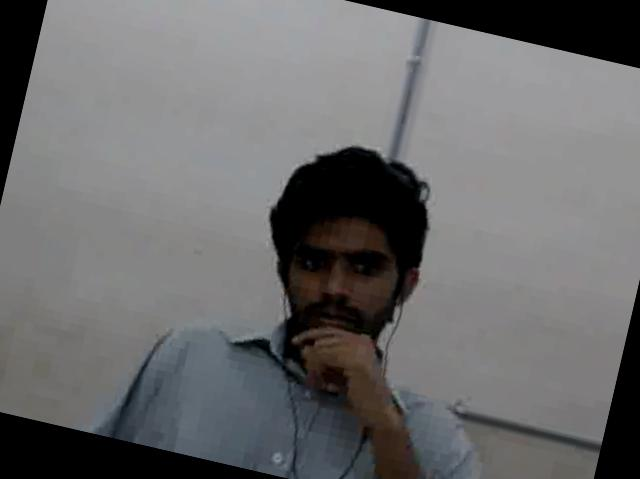bosan: (271, 205, 404, 355)
